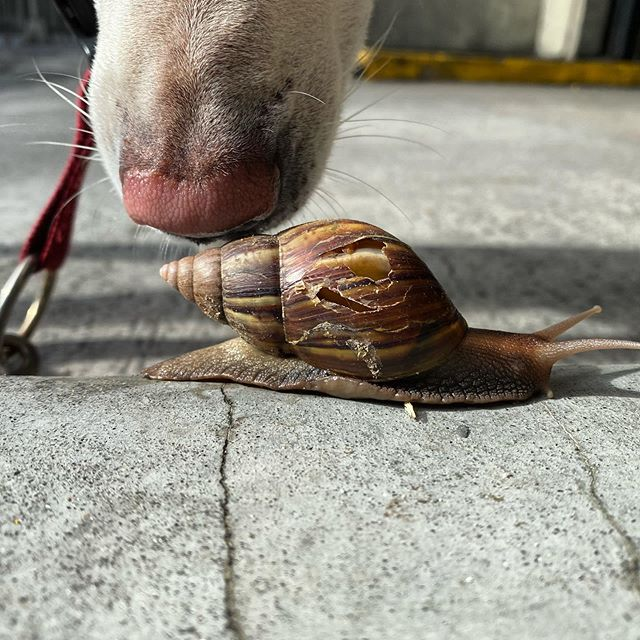animal: (142, 222, 598, 428), (81, 1, 375, 230)
